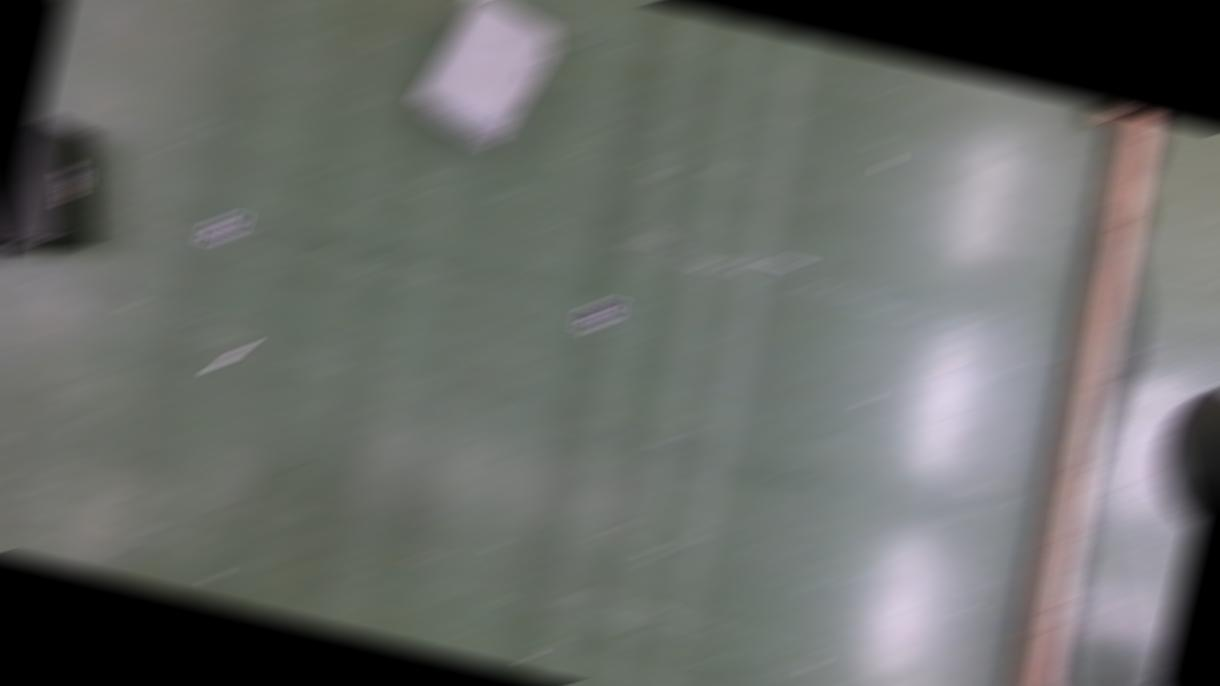probes: (208, 340, 252, 375), (761, 255, 811, 270)
rako: (404, 2, 564, 158), (0, 118, 121, 268)
